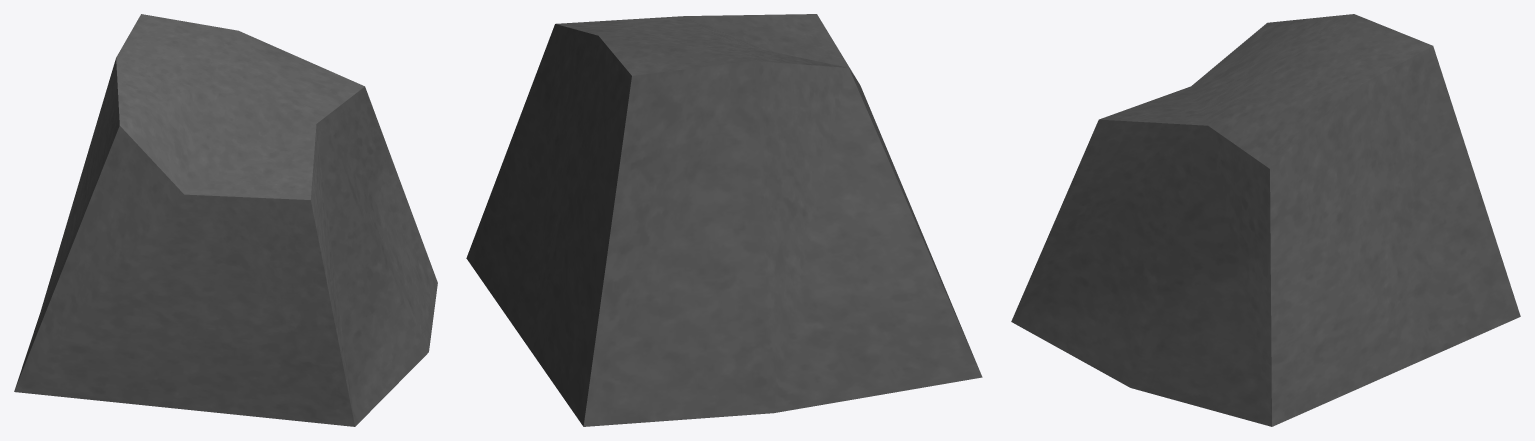
Rendered from Rock_1_Hanin.fbx.
3 renders of one model, left to right at view 1: azimuth 30°, elevation 25°; view 2: azimuth 150°, elevation 25°; view 3: azimuth 270°, elevation 25°, orthographic. The views are drawn at different scales.
Parts seen in each view (by area): view 1: pCube9; view 2: pCube9; view 3: pCube9.
Boxes of the visible parts, bbox=[...] form: pCube9: bbox=[14, 14, 437, 426]; pCube9: bbox=[466, 14, 982, 426]; pCube9: bbox=[1011, 14, 1520, 426].
Size of the model in its own units: 3.81 by 2.24 by 3.81.
